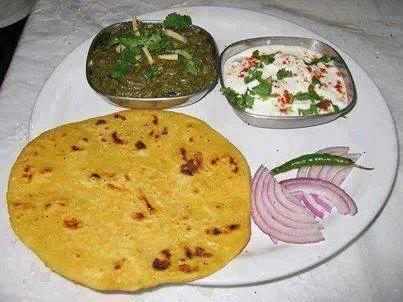saag: (92, 24, 212, 95)
